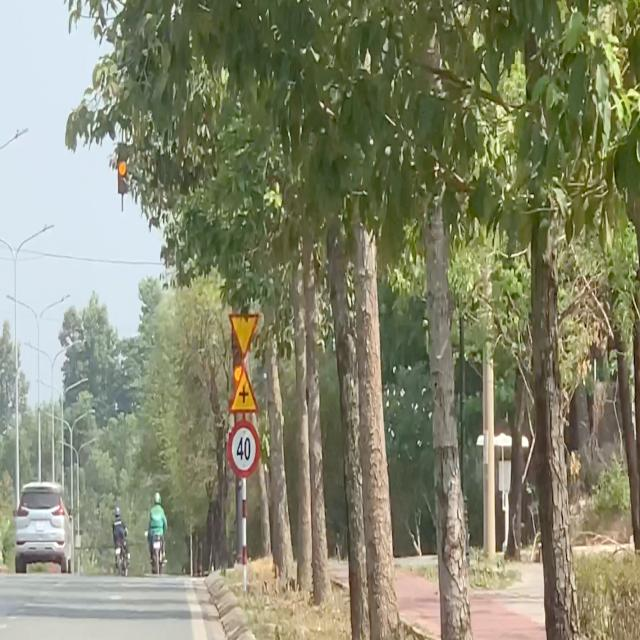Duong giao nhau: (229, 364, 259, 414)
Giao voi duong uu tien: (228, 313, 259, 358)
Toc do toi da: (228, 419, 260, 478)
